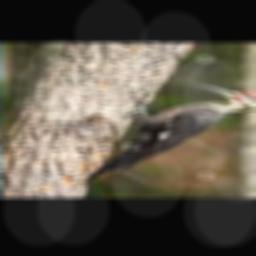Woodpecker: (85, 82, 256, 184)
